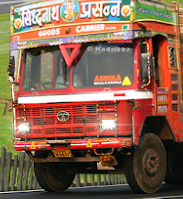truck: (8, 1, 183, 195)
